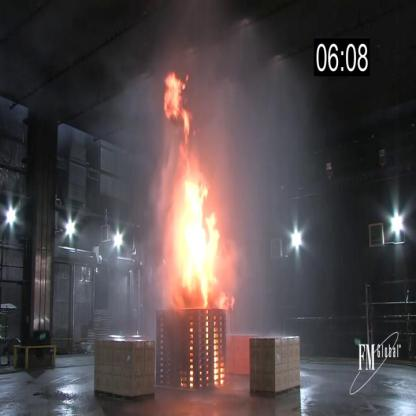fire: (173, 162, 222, 302), (162, 66, 194, 143)
